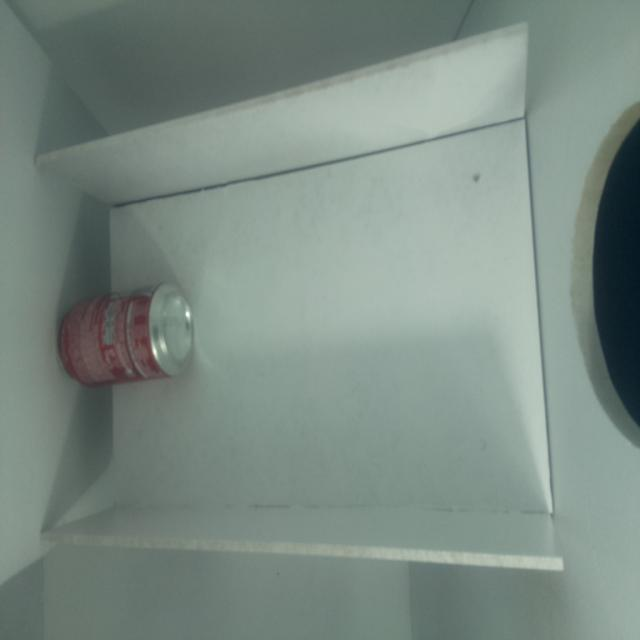can: (56, 284, 197, 396)
